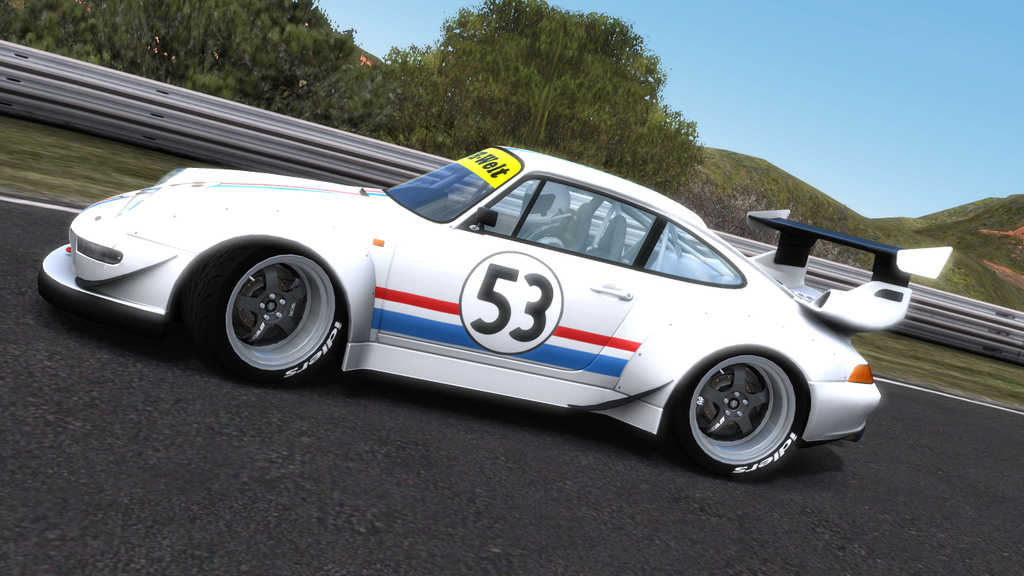Car: (75, 144, 962, 474)
